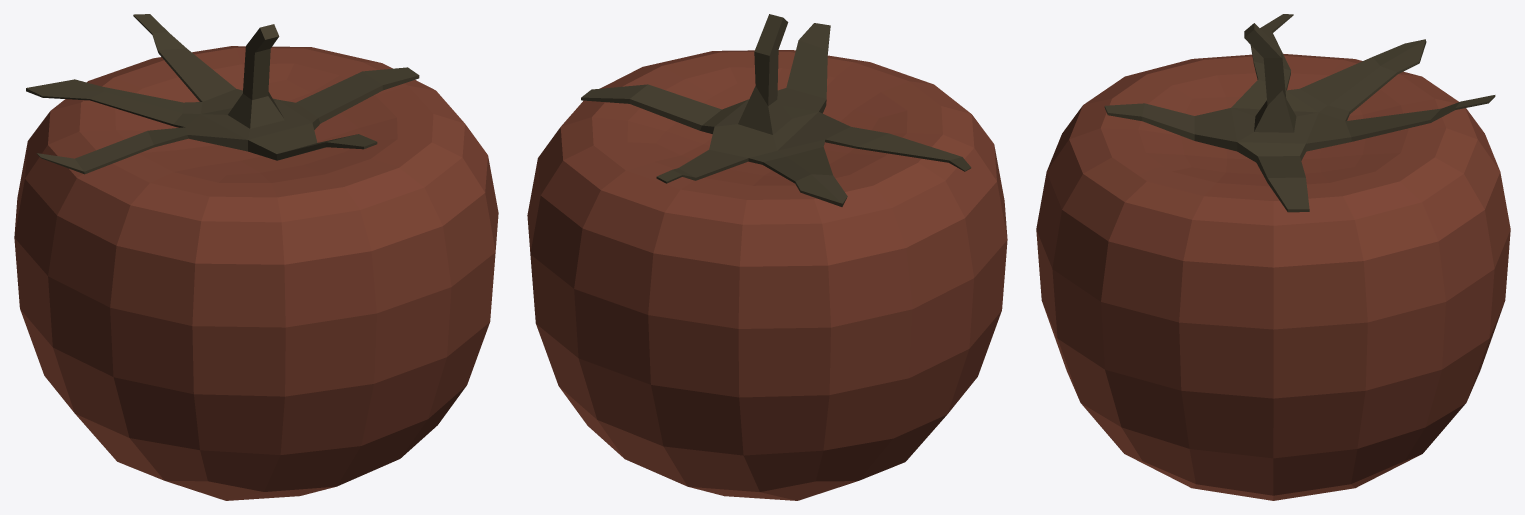
The model's file is tomato.fbx.
The picture shows the model from 3 angles, left to right: view 1: azimuth 30°, elevation 25°; view 2: azimuth 150°, elevation 25°; view 3: azimuth 270°, elevation 25°; orthographic projection.
Visible parts, largest first — view 1: Tomate, Strunk; view 2: Tomate, Strunk; view 3: Tomate, Strunk.
Boxes of the visible parts, box(x1,y1,x2,y2) form: Tomate: box(14, 46, 498, 500); Strunk: box(26, 14, 419, 174); Tomate: box(527, 50, 1007, 500); Strunk: box(581, 14, 971, 206); Tomate: box(1036, 53, 1510, 500); Strunk: box(1104, 14, 1495, 212).
Size of the model in its own units: 1.69 by 1.76 by 1.68.
